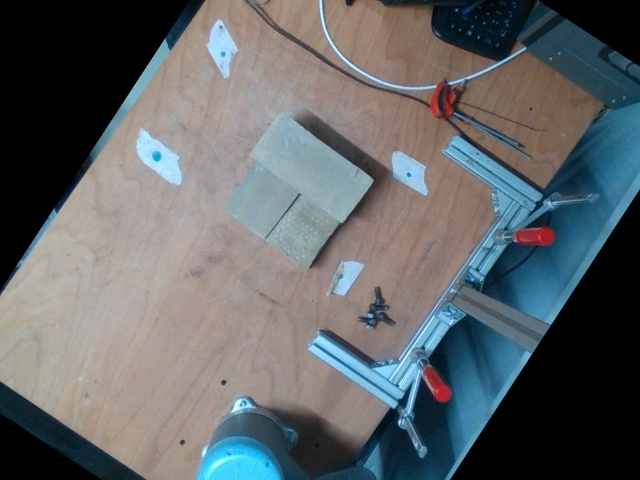brick: (249, 108, 373, 221)
